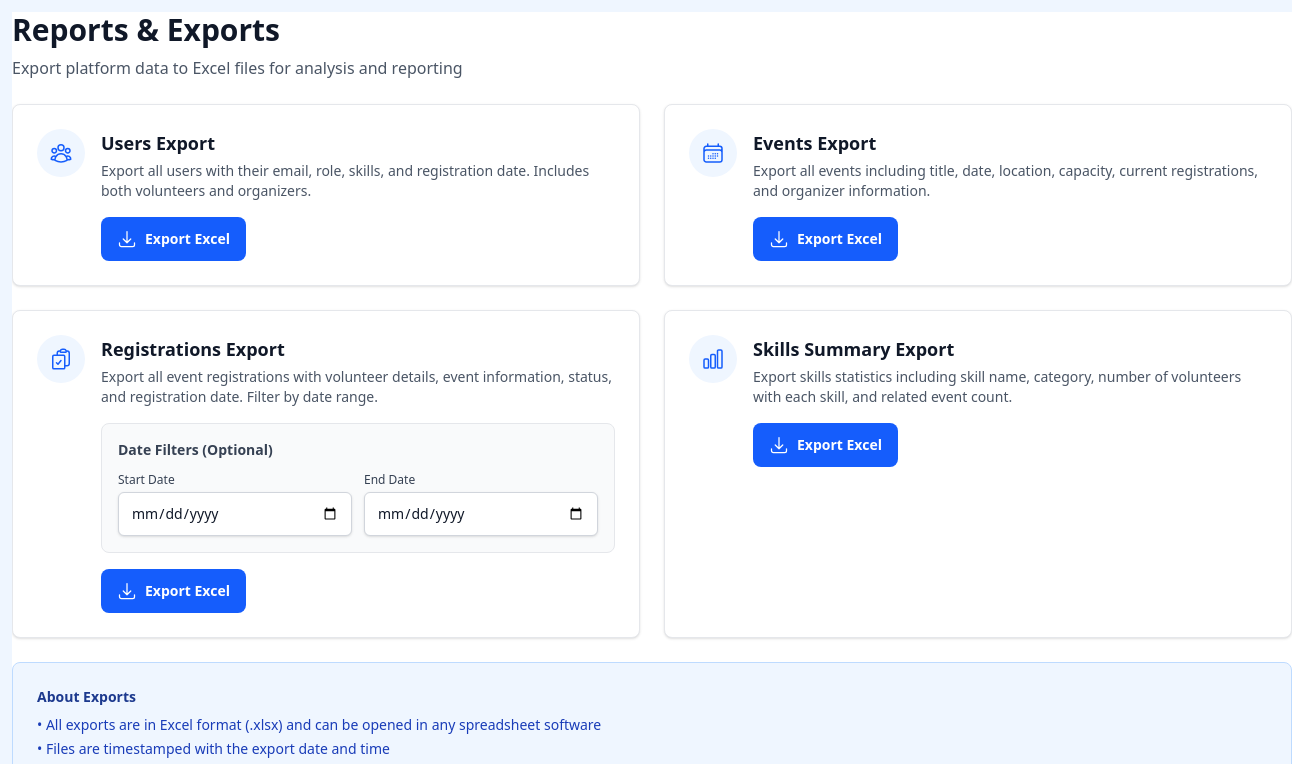
Test: AdminReportsPage › clears filters when clear button is clicked
Type "2026-01-01" into the date field labelled "Start Date" at (235, 514), box x1=118 y1=492 x2=352 y2=536
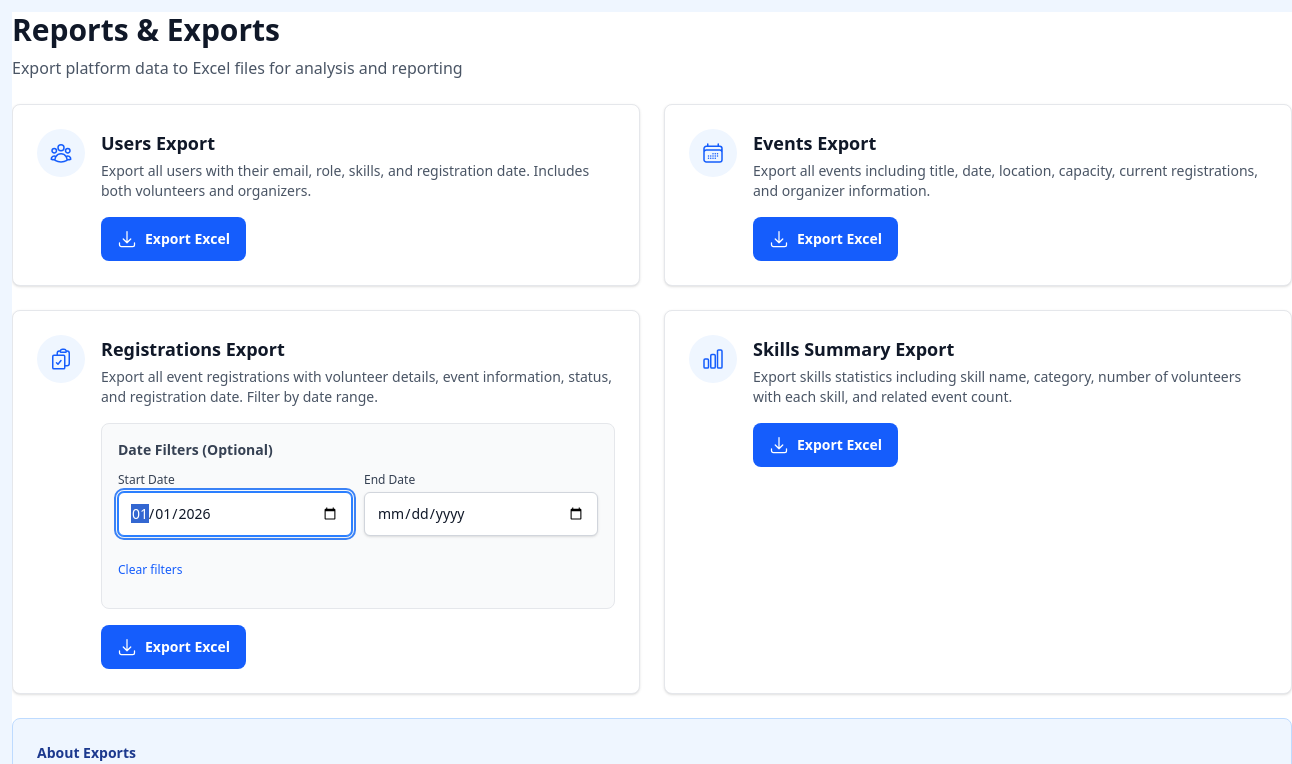
expect the button "Clear filters" is shown: met
Click the button "Clear filters" at (150, 570), box x1=118 y1=548 x2=182 y2=592
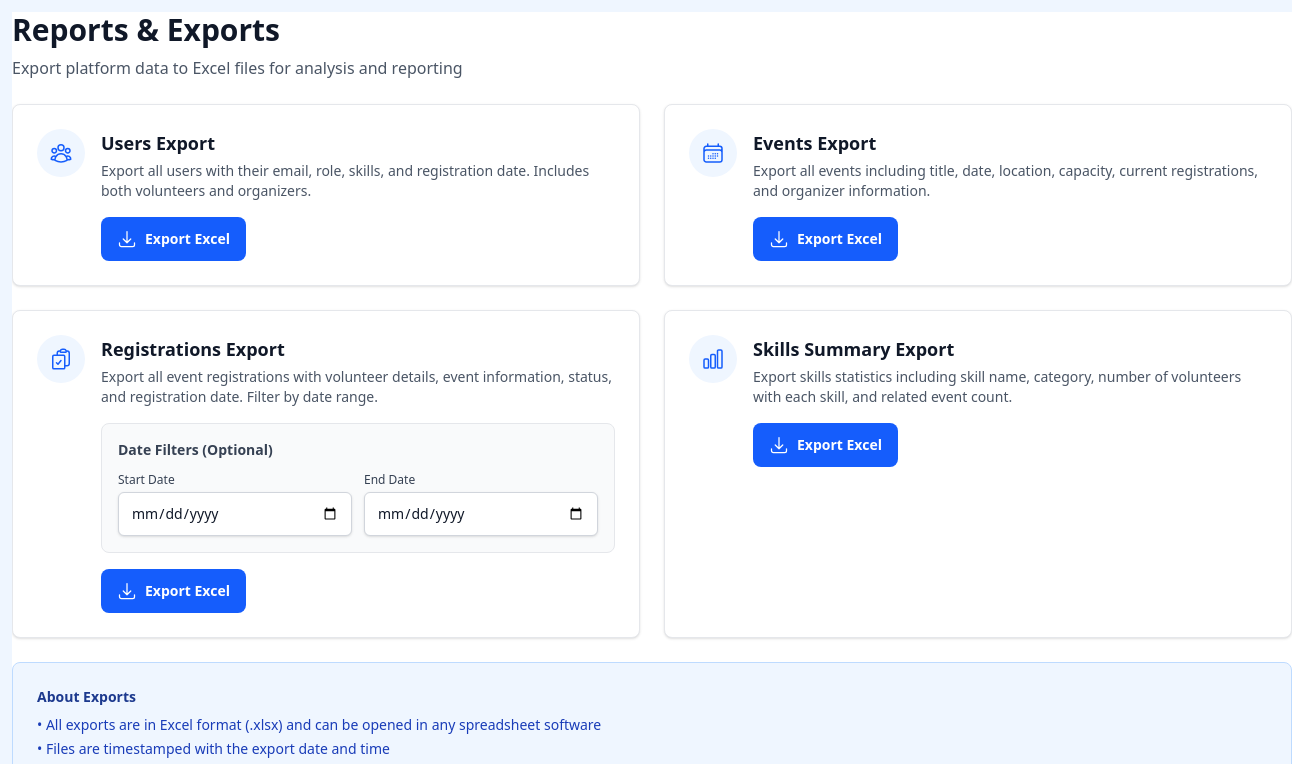
expect the date field labelled "Start Date" is empty: met, box x1=118 y1=492 x2=352 y2=536
